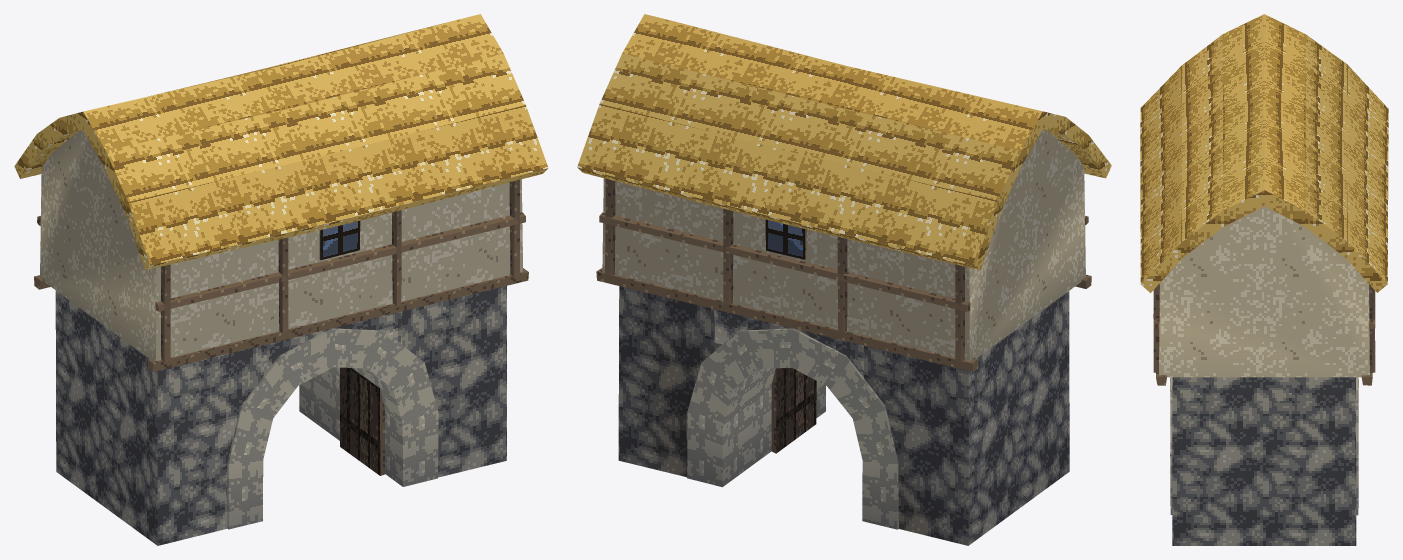
Rendered from vlg.gatehouse__open.glb.
The picture shows the model from 3 angles, left to right: view 1: azimuth 30°, elevation 25°; view 2: azimuth 150°, elevation 25°; view 3: azimuth 270°, elevation 25°; orthographic projection. The views are drawn at different scales.
Parts seen in each view (by area): view 1: kit_roof, kit_stonework, kit_walls, kit_frame, kit_fittings; view 2: kit_roof, kit_stonework, kit_walls, kit_frame, kit_fittings; view 3: kit_roof, kit_stonework, kit_walls, kit_frame.
Part boxes in pixels (x1,y1,x2,y2): kit_roof: (14, 14, 548, 270); kit_stonework: (55, 286, 506, 545); kit_walls: (40, 130, 523, 361); kit_frame: (34, 180, 528, 371); kit_fittings: (319, 220, 384, 475); kit_roof: (577, 14, 1111, 270); kit_stonework: (618, 286, 1069, 545); kit_walls: (602, 130, 1085, 361); kit_frame: (596, 179, 1091, 371); kit_fittings: (765, 219, 816, 453); kit_roof: (1140, 14, 1388, 293); kit_stonework: (1170, 377, 1358, 545); kit_walls: (1159, 206, 1369, 377); kit_frame: (1153, 284, 1375, 385).
Size of the model in its own units: 9.12 by 8.82 by 5.41.
Materials: 8 (8 with a texture image).
